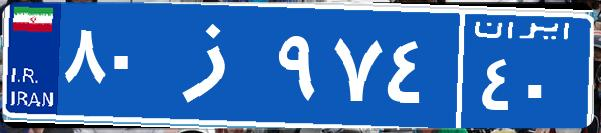0: (110, 28, 158, 105), (525, 38, 570, 115)
4: (385, 28, 445, 110), (475, 38, 525, 113)
7: (330, 28, 385, 110)
8: (57, 26, 110, 107)
9: (273, 28, 330, 110)
ز: (158, 15, 273, 115)
